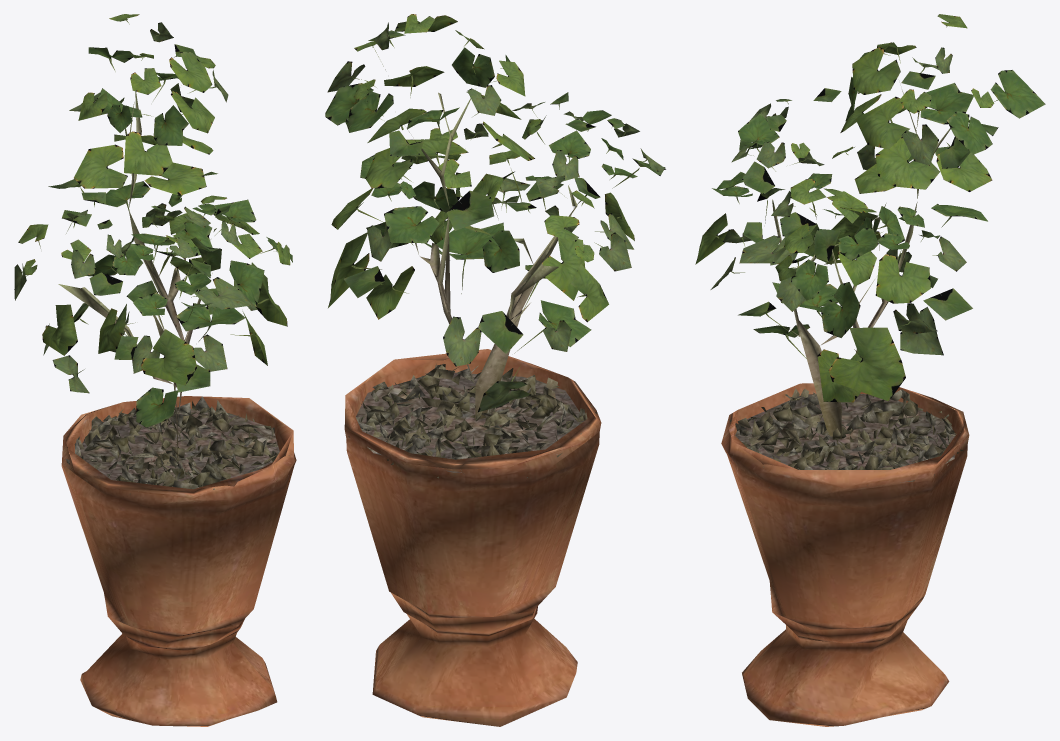
File: potted_plant_01.glb
3 views of the same model, side by side, from view 1: azimuth 30°, elevation 25°; view 2: azimuth 150°, elevation 25°; view 3: azimuth 270°, elevation 25° (orthographic). The views are drawn at different scales.
Visible parts, largest first — view 1: potted_plant_01_pot, potted_plant_01_leaves, potted_plant_01_pebbles, potted_plant_01_stem; view 2: potted_plant_01_pot, potted_plant_01_leaves, potted_plant_01_pebbles, potted_plant_01_stem; view 3: potted_plant_01_pot, potted_plant_01_leaves, potted_plant_01_pebbles, potted_plant_01_stem.
Boxes of the visible parts, box(x1,y1,x2,y2) form: potted_plant_01_pot: box(61, 396, 296, 726); potted_plant_01_leaves: box(14, 14, 292, 427); potted_plant_01_pebbles: box(65, 396, 293, 501); potted_plant_01_stem: box(58, 91, 212, 457); potted_plant_01_pot: box(344, 349, 601, 726); potted_plant_01_leaves: box(325, 14, 665, 412); potted_plant_01_pebbles: box(348, 363, 597, 478); potted_plant_01_stem: box(409, 92, 577, 419); potted_plant_01_pot: box(721, 383, 969, 726); potted_plant_01_leaves: box(695, 14, 1045, 402); potted_plant_01_pebbles: box(729, 388, 963, 487); potted_plant_01_stem: box(772, 90, 950, 438).
Size of the model in its own units: 0.5775 by 1.33 by 0.6336.
Materials: 2 (2 with a texture image).
